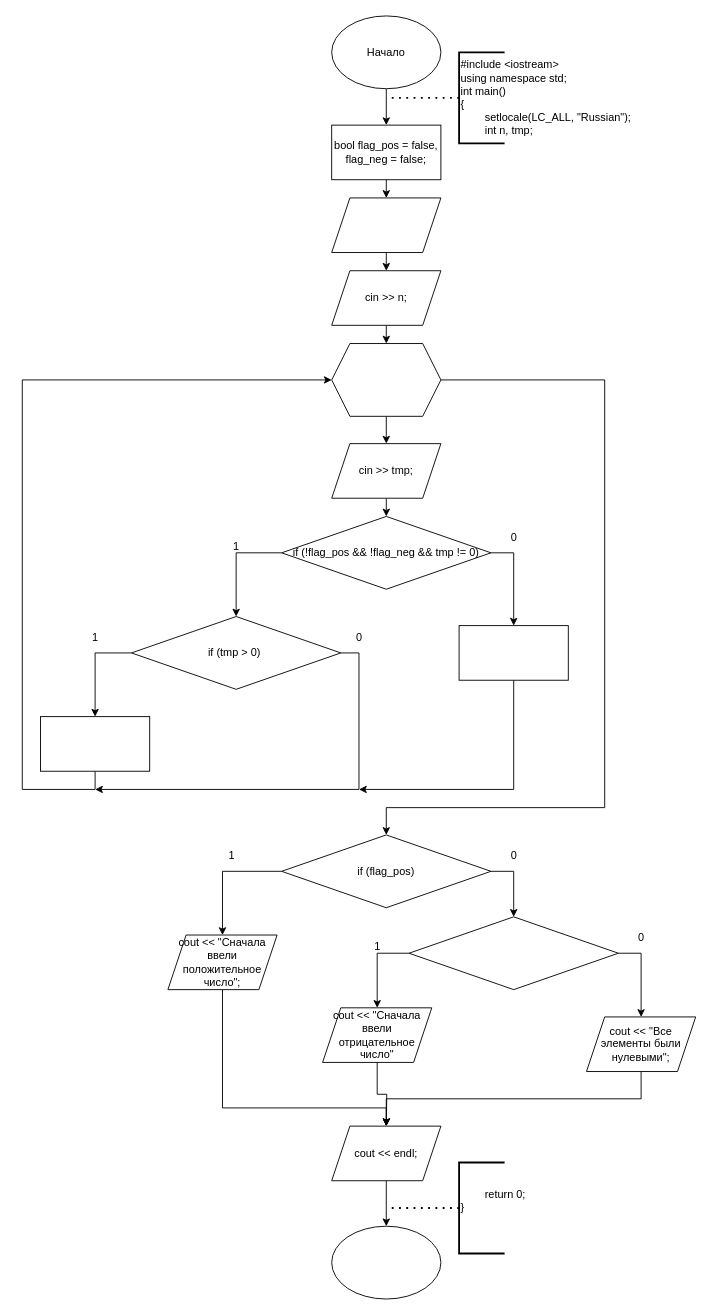
This 712x1315 diagram has some shape labels left out. The centre of each missing label's shape, as x and y in pixels:
cout << "Введите длину последовательности: \n";: (386,225)
for (int i = 1; i <= n; i++): (386,379)
if (flag_neg): (513,953)
{flag_neg = true;}: (513,652)
{flag_pos = true;}: (95,743)
Конец: (386,1262)
